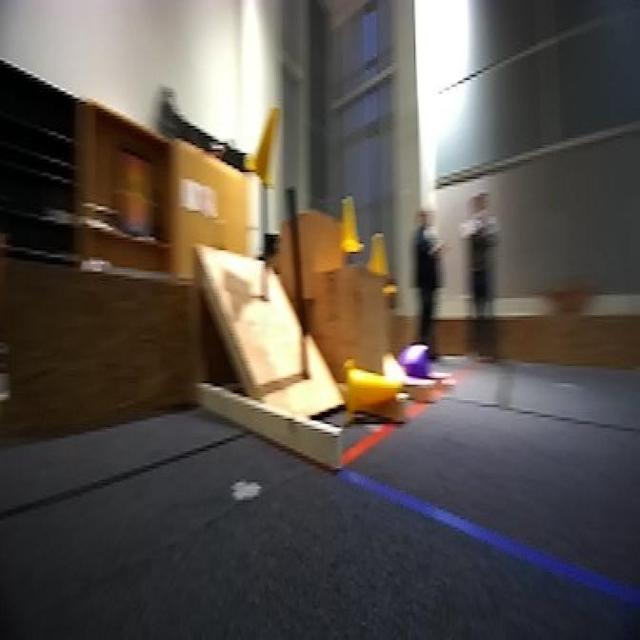frc_cone: (243, 106, 282, 190), (345, 363, 400, 422), (338, 199, 365, 261), (370, 237, 388, 279)
frc_cube: (402, 346, 431, 388)
